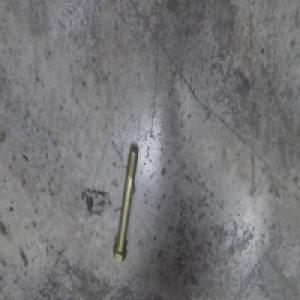Bolt: (110, 146, 137, 267)
